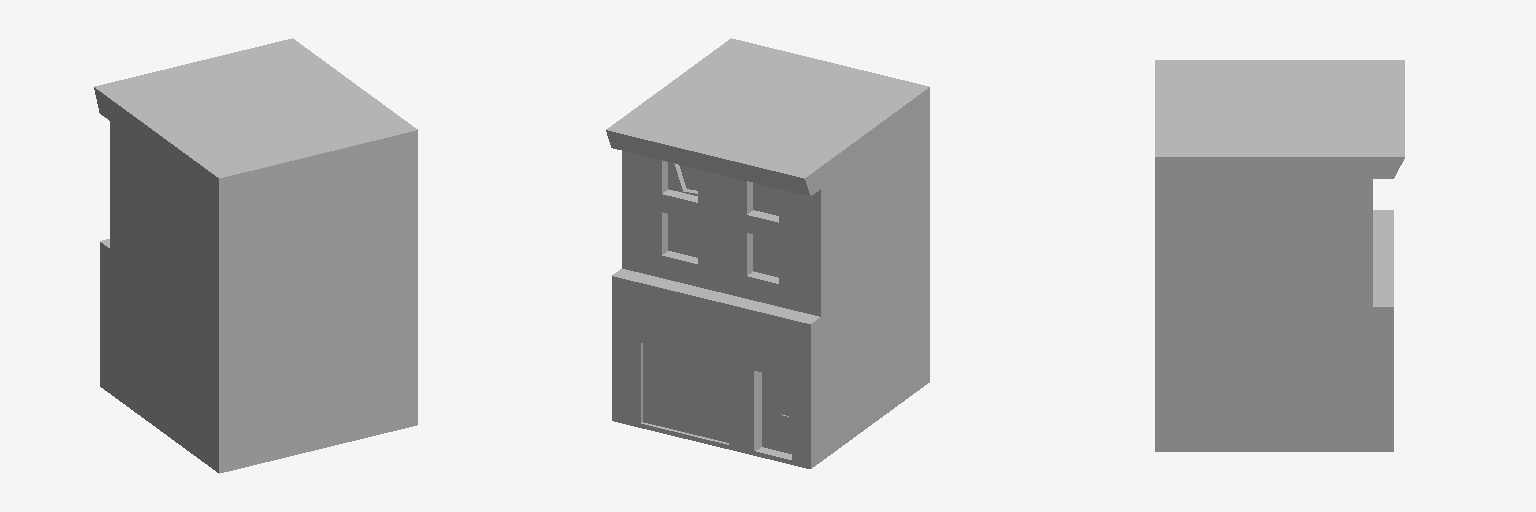
The model's file is Building small.obj.
The picture shows the model from 3 angles: view 1: azimuth 30°, elevation 25°; view 2: azimuth 150°, elevation 25°; view 3: azimuth 270°, elevation 25°; orthographic projection.
Parts seen in each view (by area): view 1: pCube5; view 2: pCube5; view 3: pCube5.
Boxes of the visible parts, <box> form: pCube5: <box>94,38,417,473</box>; pCube5: <box>606,38,929,468</box>; pCube5: <box>1155,60,1404,451</box>.
Bounding box in the file's own units: 11.29 × 16 × 12.33.